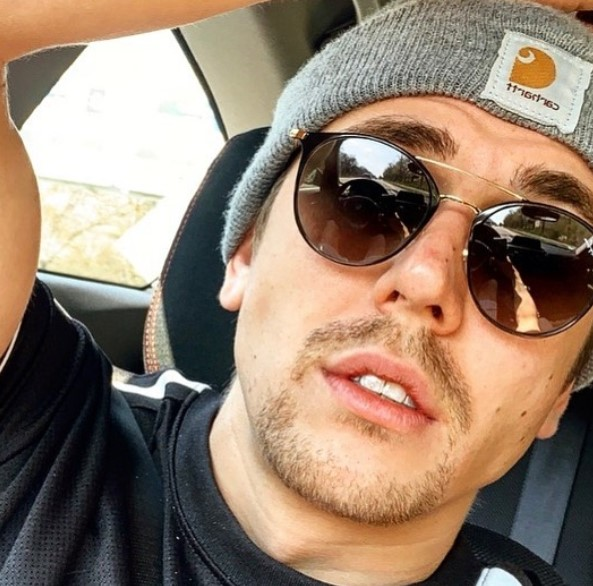face_no_mask: (236, 21, 593, 536)
